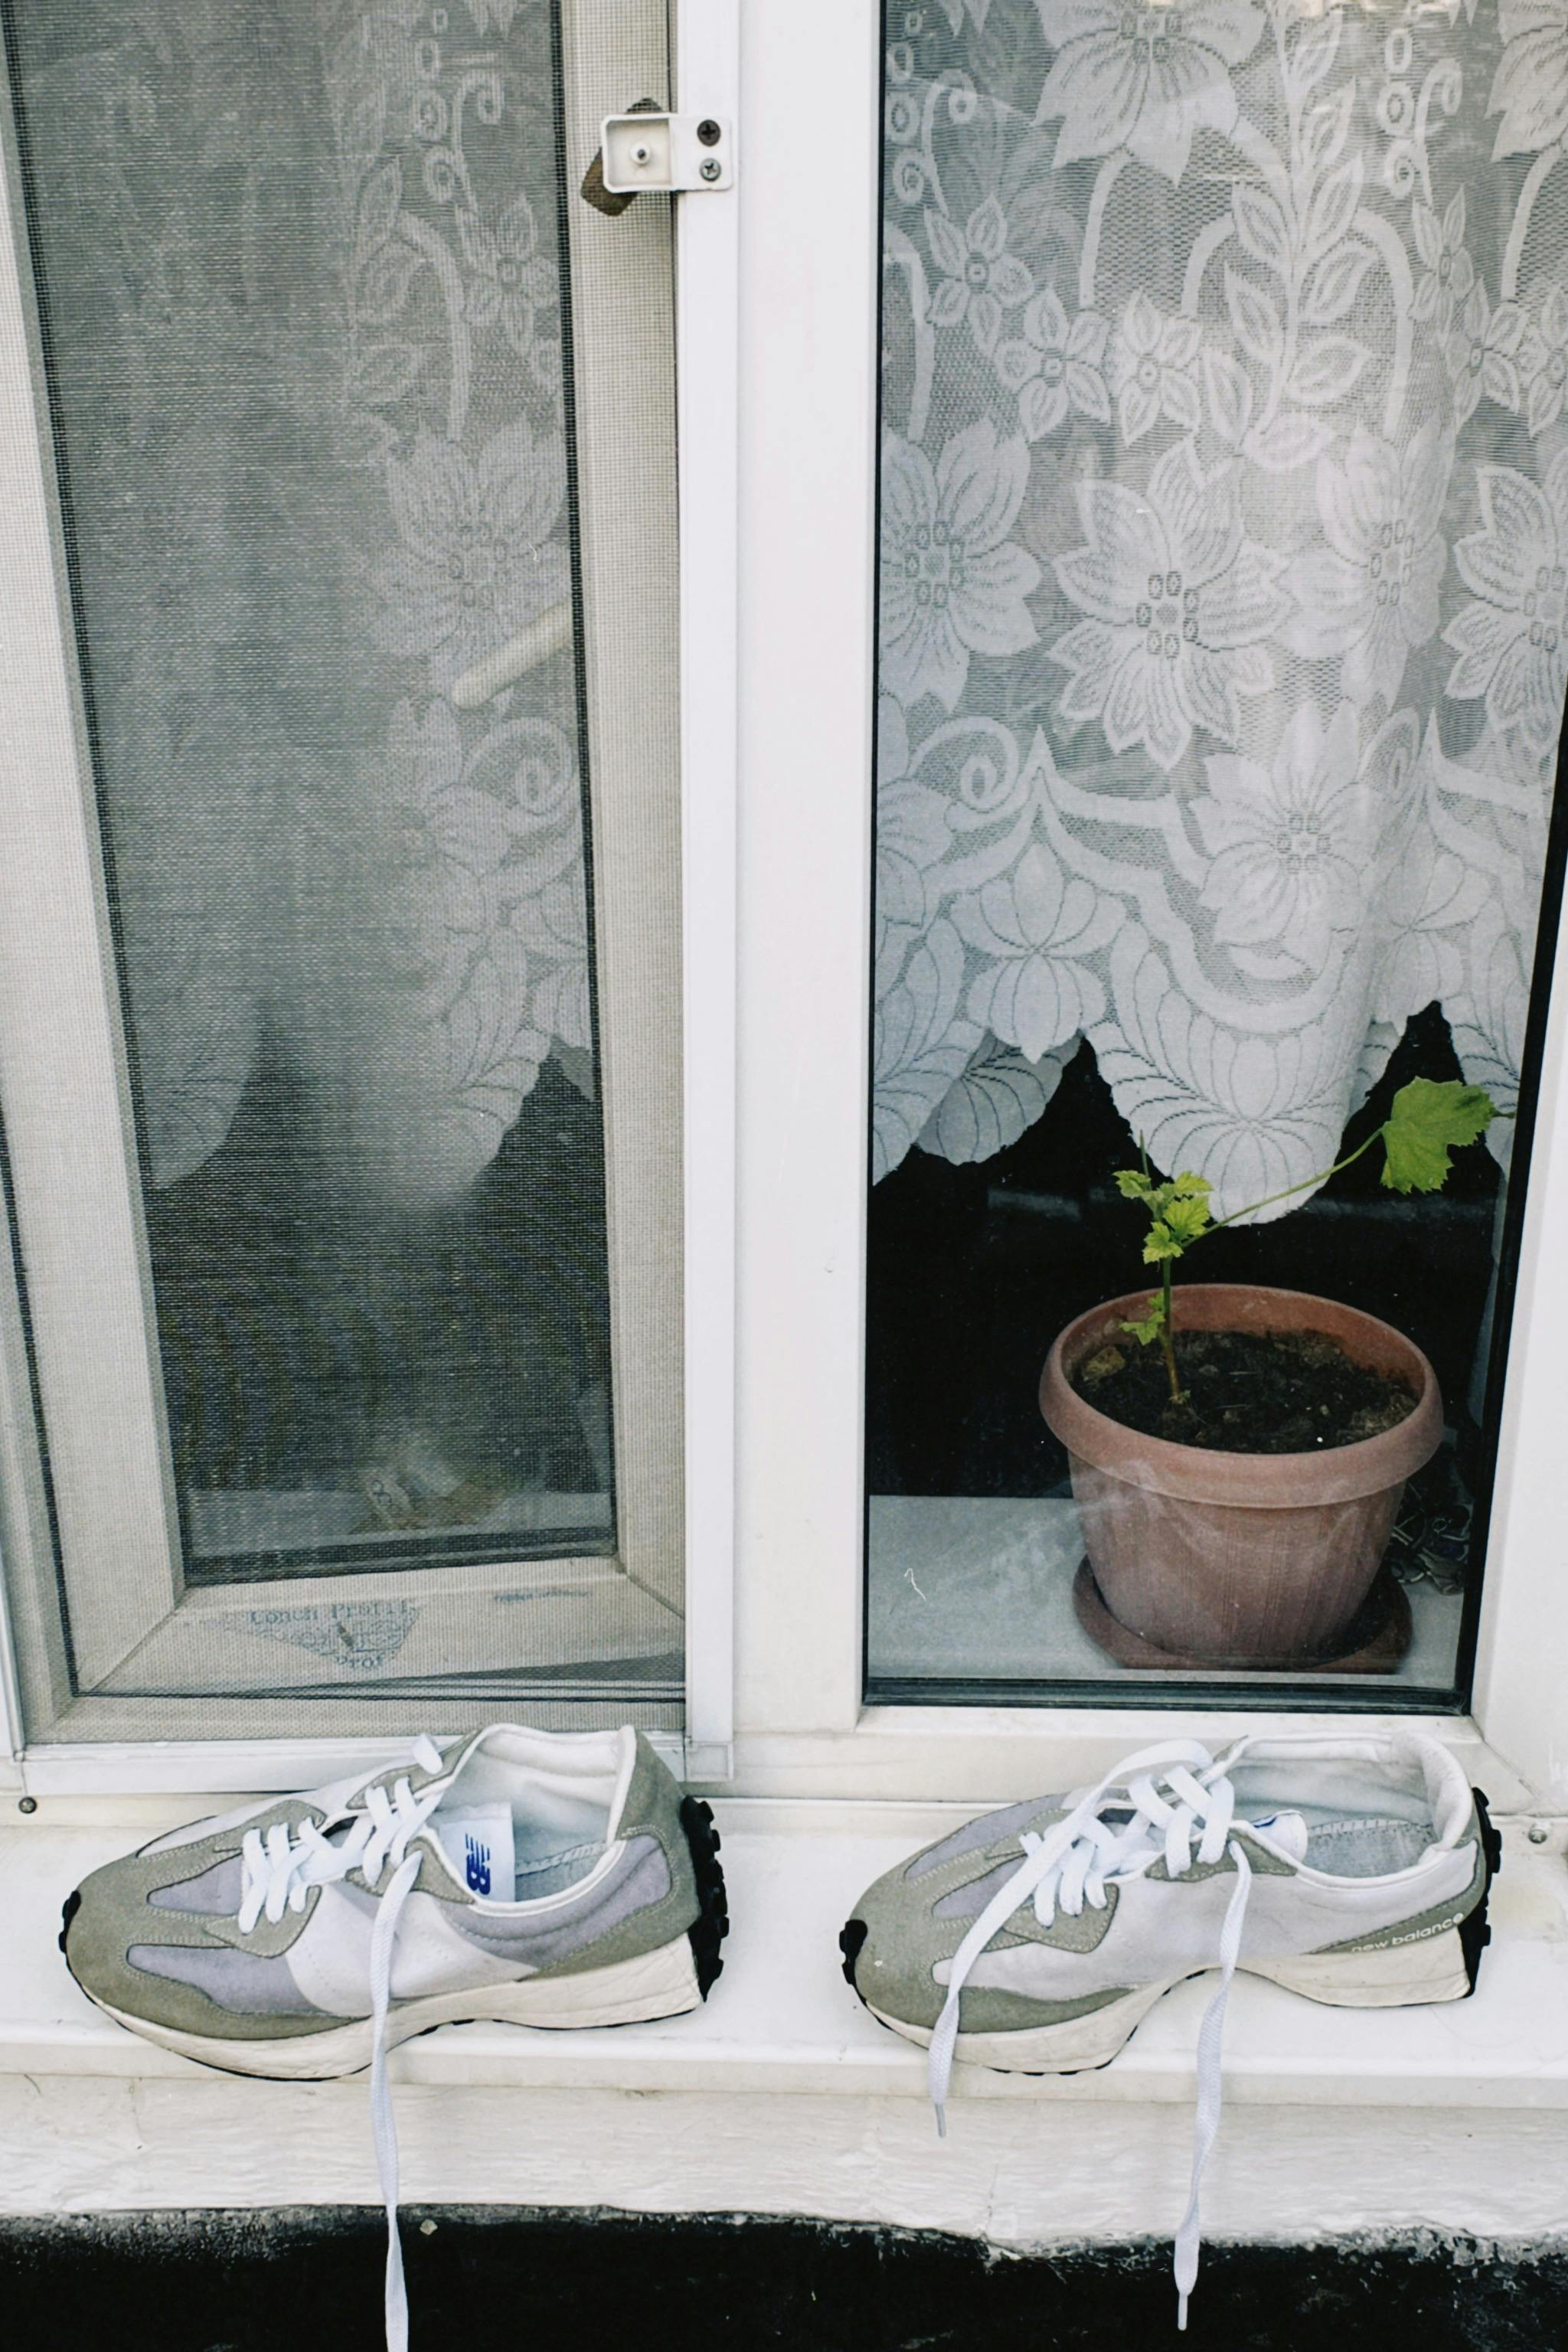Footwear: (796, 1745, 1496, 2046), (35, 1759, 728, 2058)
